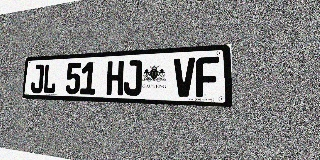1: (80, 62, 96, 95)
5: (66, 63, 81, 94)
F: (196, 56, 219, 98)
H: (106, 61, 124, 95)
J: (123, 60, 142, 96), (30, 64, 44, 93)
L: (43, 64, 57, 94)
V: (173, 57, 195, 97)
